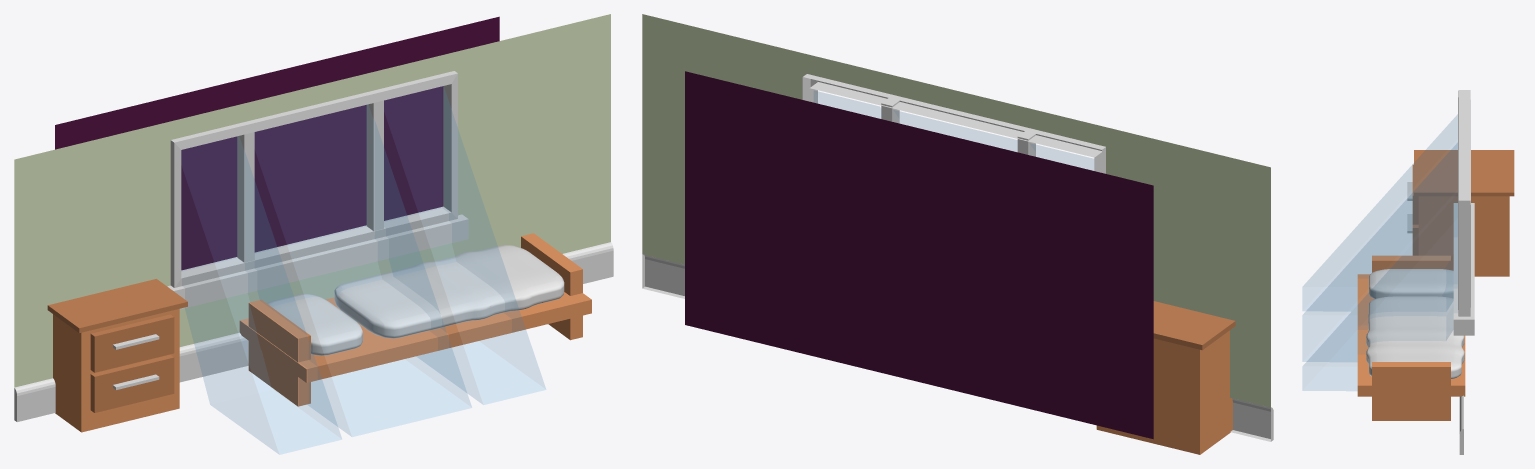
The model's file is rooom_inside.glb.
3 views of the same model, side by side, from view 1: azimuth 30°, elevation 25°; view 2: azimuth 150°, elevation 25°; view 3: azimuth 270°, elevation 25° (orthographic). The views are drawn at different scales.
Parts seen in each view (by area): view 1: Plane, Cube.004, Plane.001, Mball.005, Cube, Cube.007, Cube.001, Cube.003, Cube.002, Cube.009, Cube.005, Cube.006 (+1 smaller); view 2: Plane.001, Plane, Cube.003, Cube, Cube.004, Cube.002; view 3: Cube.004, Mball.005, Cube.003, Cube.008, Cube.002, Cube, Cube.007, Cube.001, Cube.009, Cube.005, Cube.006, Plane.
Boxes of the visible parts, x1=… form: Plane: x1=14, y1=14, x2=613, y2=421; Cube.004: x1=181, y1=86, x2=545, y2=454; Plane.001: x1=55, y1=16, x2=499, y2=270; Mball.005: x1=267, y1=245, x2=564, y2=355; Cube: x1=170, y1=71, x2=457, y2=287; Cube.007: x1=239, y1=292, x2=591, y2=382; Cube.001: x1=167, y1=214, x2=468, y2=309; Cube.003: x1=53, y1=309, x2=179, y2=432; Cube.002: x1=47, y1=279, x2=187, y2=333; Cube.009: x1=248, y1=300, x2=310, y2=406; Cube.005: x1=90, y1=314, x2=174, y2=372; Cube.006: x1=90, y1=354, x2=174, y2=412; Plane.001: x1=685, y1=71, x2=1153, y2=439; Plane: x1=642, y1=14, x2=1273, y2=441; Cube.003: x1=1096, y1=330, x2=1232, y2=454; Cube: x1=802, y1=74, x2=1105, y2=173; Cube.004: x1=814, y1=91, x2=1093, y2=170; Cube.002: x1=1153, y1=301, x2=1235, y2=350; Cube.004: x1=1302, y1=114, x2=1457, y2=390; Mball.005: x1=1366, y1=269, x2=1464, y2=378; Cube.003: x1=1418, y1=196, x2=1509, y2=276; Cube.008: x1=1372, y1=362, x2=1450, y2=420; Cube.002: x1=1414, y1=150, x2=1514, y2=196; Cube: x1=1458, y1=90, x2=1470, y2=316; Cube.007: x1=1357, y1=274, x2=1465, y2=396; Cube.001: x1=1453, y1=203, x2=1474, y2=335; Cube.009: x1=1372, y1=255, x2=1450, y2=272; Cube.005: x1=1407, y1=164, x2=1418, y2=224; Cube.006: x1=1407, y1=214, x2=1418, y2=255; Plane: x1=1459, y1=395, x2=1463, y2=454.
Bounding box in the file's own units: 12.13 × 5.09 × 4.81.
